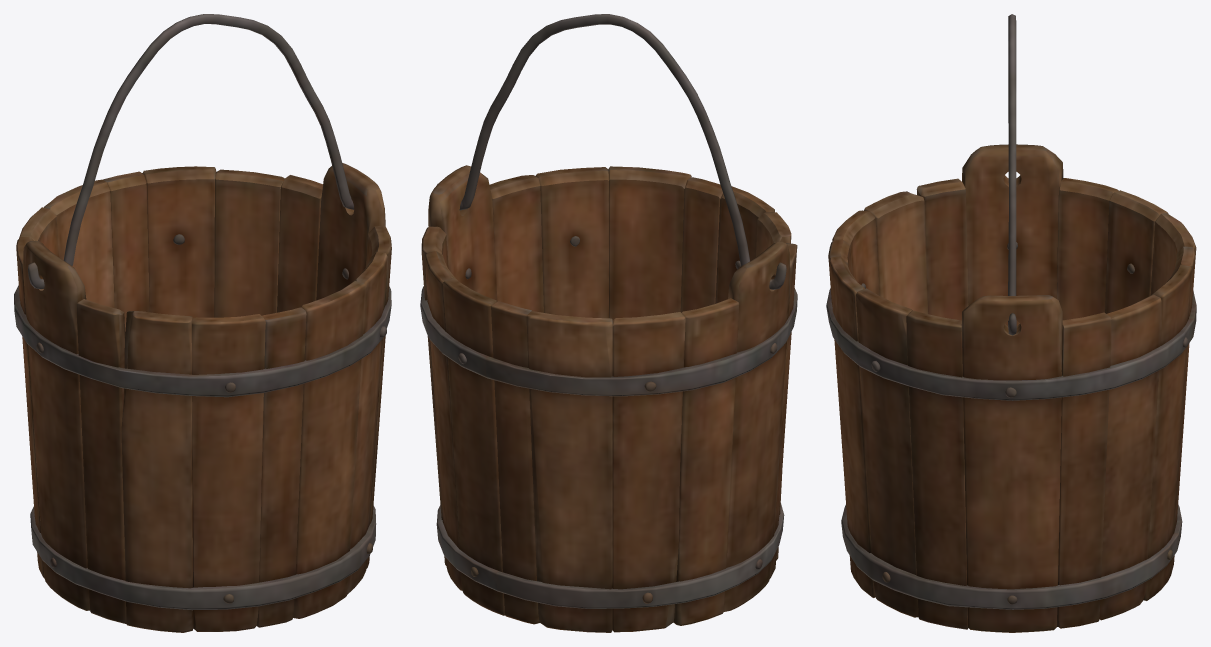
Rendered from wooden_bucket_01.glb.
The picture shows the model from 3 angles, left to right: view 1: azimuth 30°, elevation 25°; view 2: azimuth 150°, elevation 25°; view 3: azimuth 270°, elevation 25°; orthographic projection.
Size of the model in its own units: 0.367 by 0.5499 by 0.3422.
1 material, 1 textured.
